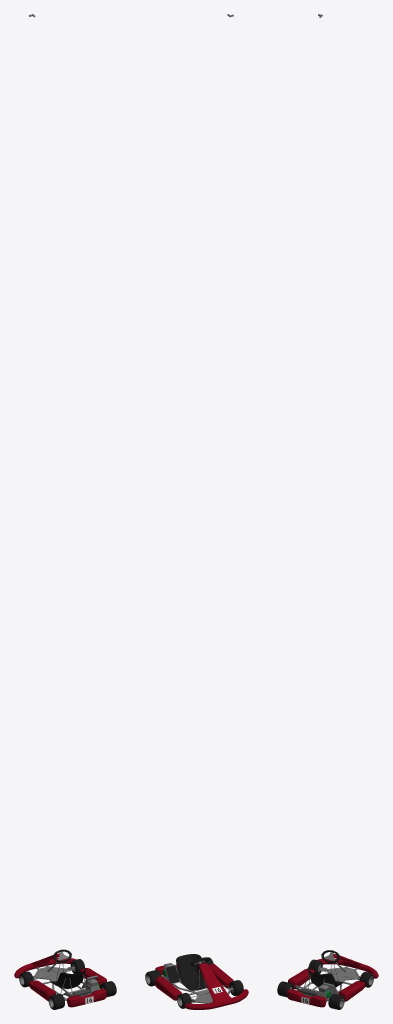
File: kart.glb
The picture shows the model from 3 angles, left to right: view 1: azimuth 30°, elevation 25°; view 2: azimuth 210°, elevation 25°; view 3: azimuth 330°, elevation 25°; orthographic projection. The views are drawn at different scales.
Visible parts, largest first — view 1: Plane, Cube.004, Plane.001, Cube.003, Cube.002; view 2: Cube.004, Plane.001, Plane, Cube.001; view 3: Plane, Cube.004, Cube.003, Plane.001, Cube.001, Cube.002.
Boxes of the visible parts, bbox=[...] form: Plane: bbox=[29, 14, 90, 1000]; Cube.004: bbox=[14, 953, 75, 978]; Plane.001: bbox=[50, 968, 86, 989]; Cube.003: bbox=[67, 989, 106, 1007]; Cube.002: bbox=[29, 980, 55, 1001]; Cube.004: bbox=[184, 962, 248, 1009]; Plane.001: bbox=[176, 954, 207, 990]; Plane: bbox=[161, 14, 233, 1003]; Cube.001: bbox=[155, 976, 181, 1000]; Plane: bbox=[298, 14, 360, 1001]; Cube.004: bbox=[317, 954, 378, 978]; Cube.003: bbox=[287, 989, 326, 1007]; Plane.001: bbox=[307, 967, 343, 987]; Cube.001: bbox=[338, 981, 365, 1001]; Cube.002: bbox=[288, 968, 314, 989].
Size of the model in its own units: 6.11 by 90.71 by 8.56.
